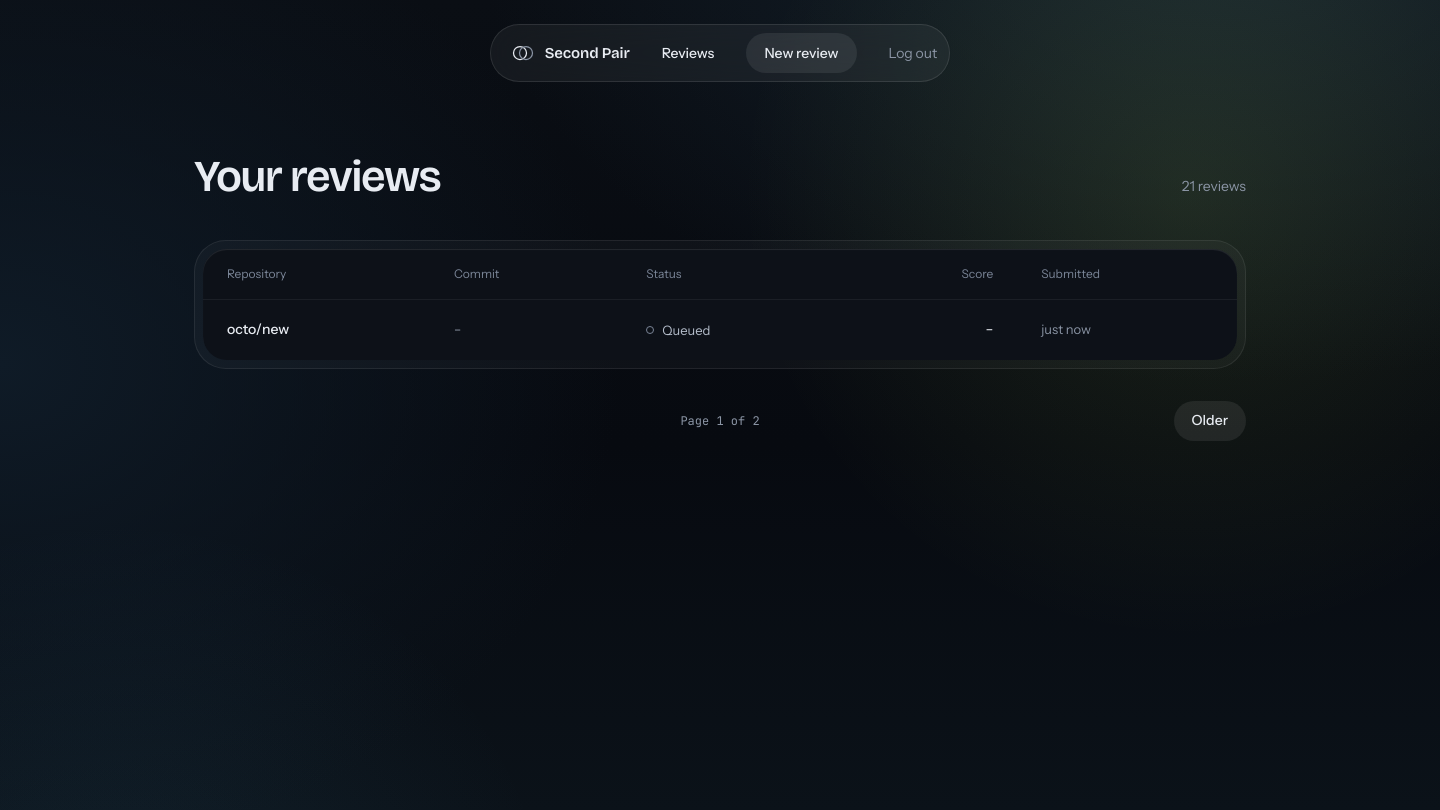
Test case: HistoryPage › moves between pages
This screenshot has width=1440, height=810.
Expected: the text "Page 1 of 2" is shown, [680, 412, 760, 430]
Expected: the link "Newer" is not shown
Click the link "Older": {"x": 1210, "y": 421} [1174, 401, 1246, 441]
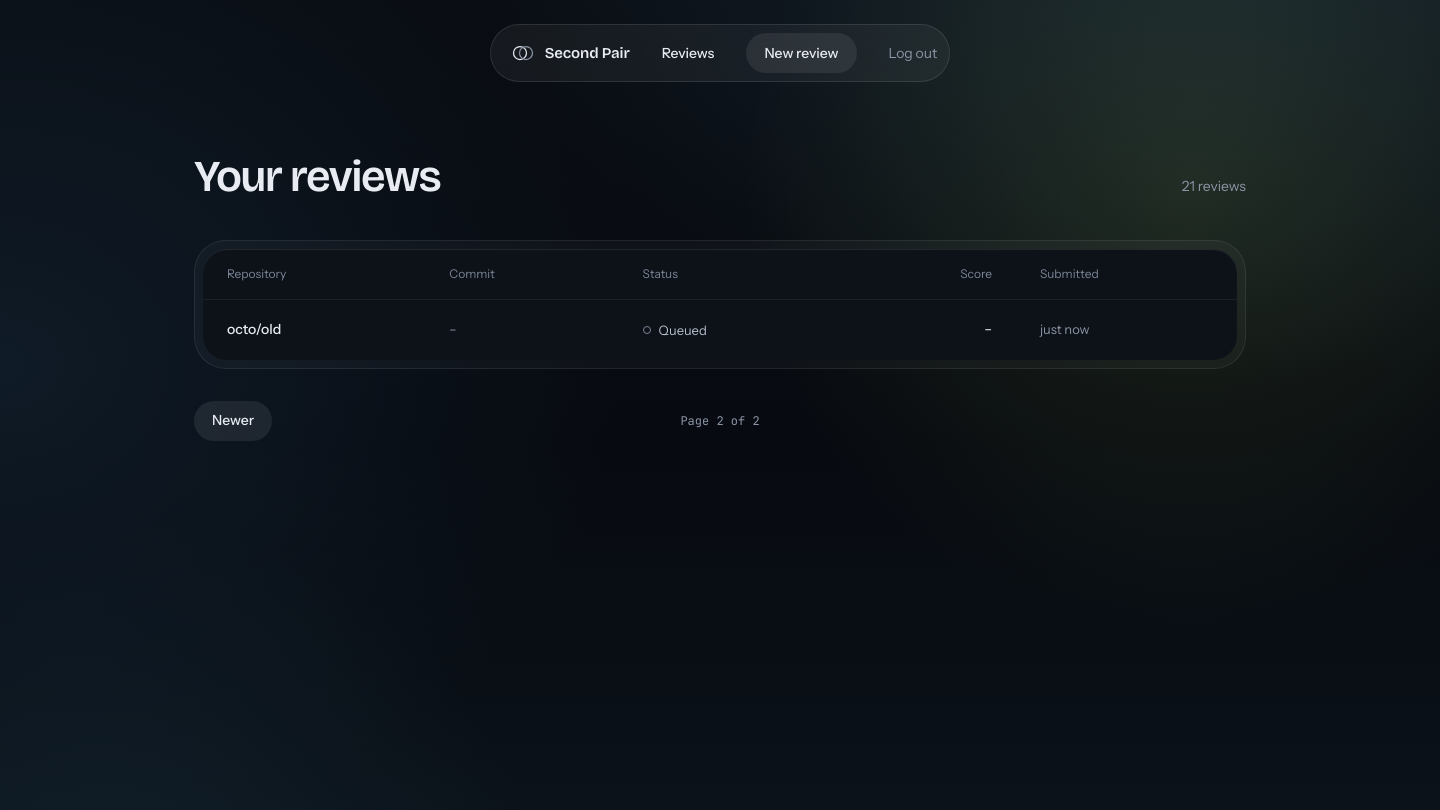
Expected: the link "octo/old" is shown, [227, 320, 281, 338]
Expected: the text "Page 2 of 2" is shown, [680, 412, 760, 430]
